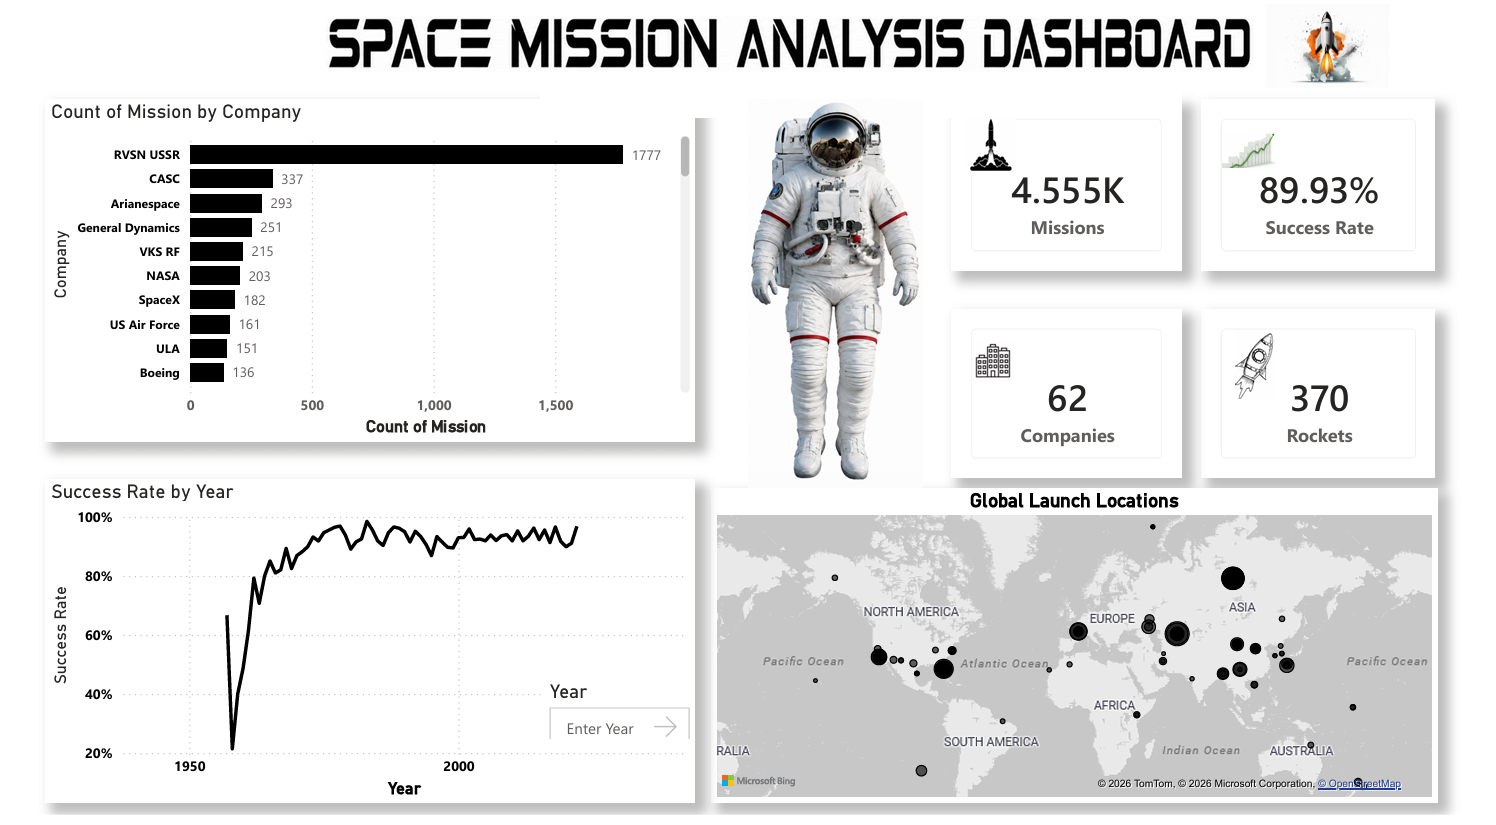

This screenshot's page, from the dashboard's own definition file:
{"tool":"powerbi","page":{"name":"Page 1","canvas":[1280,720],"ordinal":0},"visuals":[{"type":"cardVisual","fields":{"Data":["Count(space_missions1.Mission)"]},"box":[818.3,93.3,201.7,150],"z":0},{"type":"cardVisual","fields":{"Data":["space_missions1.Success Rate"]},"box":[1036.7,93.3,205,150],"z":1000},{"type":"cardVisual","fields":{"Data":["Count(space_missions1.Rocket)"]},"box":[1036.7,276.7,205,148.3],"z":2000},{"type":"cardVisual","fields":{"Data":["Count(space_missions1.Company)"]},"box":[818.3,276.7,201.7,148.3],"z":3000},{"type":"clusteredBarChart","fields":{"Y":["CountNonNull(space_missions1.Mission)"],"Category":["space_missions1.Company"]},"box":[23.3,93.3,570,300],"z":4000},{"type":"map","title":"Global Launch Locations","fields":{"Category":["space_missions1.Location"],"Size":["CountNonNull(space_missions1.Mission)"]},"box":[607.1,434.3,637.1,275.7],"z":5000},{"type":"textbox","box":[457.1,0,562.9,108.6],"z":6000},{"type":"image","box":[267.5,0,815,88.8],"z":7000},{"type":"image","box":[1093.2,0,108.8,92.9],"z":8000},{"type":"image","box":[593.1,92.9,247,341.2],"z":9000},{"type":"image","box":[818.3,106.7,68.3,50],"z":10000},{"type":"image","box":[1055,106.7,46.7,61.7],"z":11000},{"type":"image","box":[821.7,305,65,35],"z":12000},{"type":"image","box":[1066.7,291.7,35,68.3],"z":13000},{"type":"lineChart","fields":{"Category":["space_missions1.Year"],"Y":["space_missions1.Success Rate"]},"box":[22.9,425.7,570,284.3],"z":14000},{"type":"textSlicer","fields":{"Values":["space_missions1.Year"]},"box":[459.8,601.6,133.3,51.4],"z":15000}]}

Visuals, with their boxes in screenshot pixels (x1, y1, x2, y2), scaled from the page's 1280x720 canvas onto the 1496x825 screenshot:
cardVisual - Count(space_missions1.Mission): (x1=956, y1=107, x2=1192, y2=279)
cardVisual - space_missions1.Success Rate: (x1=1212, y1=107, x2=1451, y2=279)
cardVisual - Count(space_missions1.Rocket): (x1=1212, y1=317, x2=1451, y2=487)
cardVisual - Count(space_missions1.Company): (x1=956, y1=317, x2=1192, y2=487)
clusteredBarChart - CountNonNull(space_missions1.Mission) x space_missions1.Company: (x1=27, y1=107, x2=693, y2=451)
"Global Launch Locations" map: (x1=710, y1=498, x2=1454, y2=814)
textbox: (x1=534, y1=0, x2=1192, y2=124)
image: (x1=313, y1=0, x2=1265, y2=102)
image: (x1=1278, y1=0, x2=1405, y2=106)
image: (x1=693, y1=106, x2=982, y2=497)
image: (x1=956, y1=122, x2=1036, y2=180)
image: (x1=1233, y1=122, x2=1288, y2=193)
image: (x1=960, y1=349, x2=1036, y2=390)
image: (x1=1247, y1=334, x2=1288, y2=412)
lineChart - space_missions1.Year x space_missions1.Success Rate: (x1=27, y1=488, x2=693, y2=814)
textSlicer - space_missions1.Year: (x1=537, y1=689, x2=693, y2=748)
